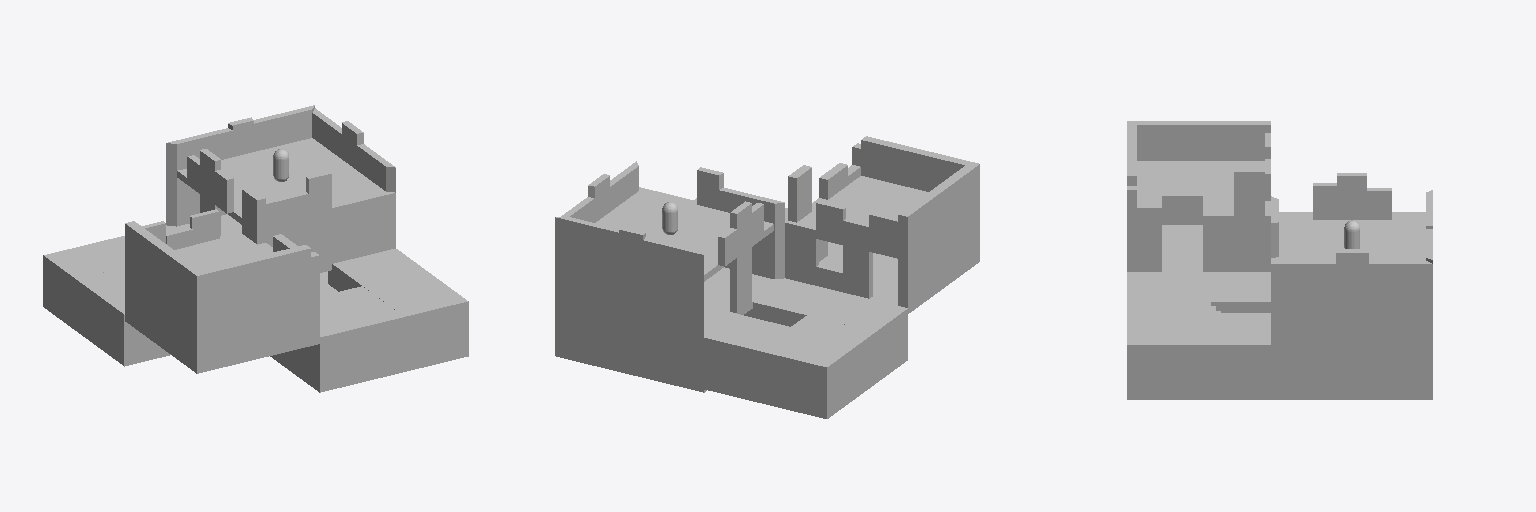
File: othermap1.obj
3 renders of one model, left to right at view 1: azimuth 30°, elevation 25°; view 2: azimuth 150°, elevation 25°; view 3: azimuth 270°, elevation 25°, orthographic.
Visible parts, largest first — view 1: Cube; view 2: Cube; view 3: Cube.
Boxes of the visible parts, x1,y1,x2,y2 form: Cube: [43, 105, 468, 392]; Cube: [555, 136, 979, 418]; Cube: [1127, 121, 1432, 399].
Bounding box in the file's own units: 19.28 × 10.51 × 18.85.